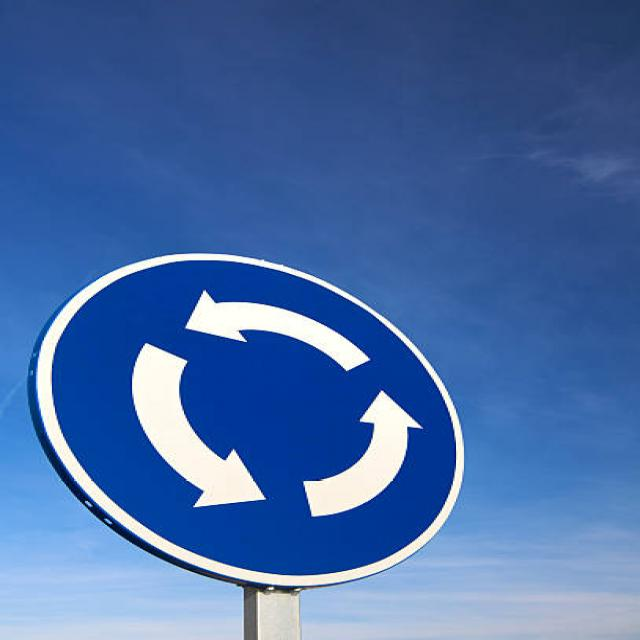round_about: (26, 248, 477, 588)
